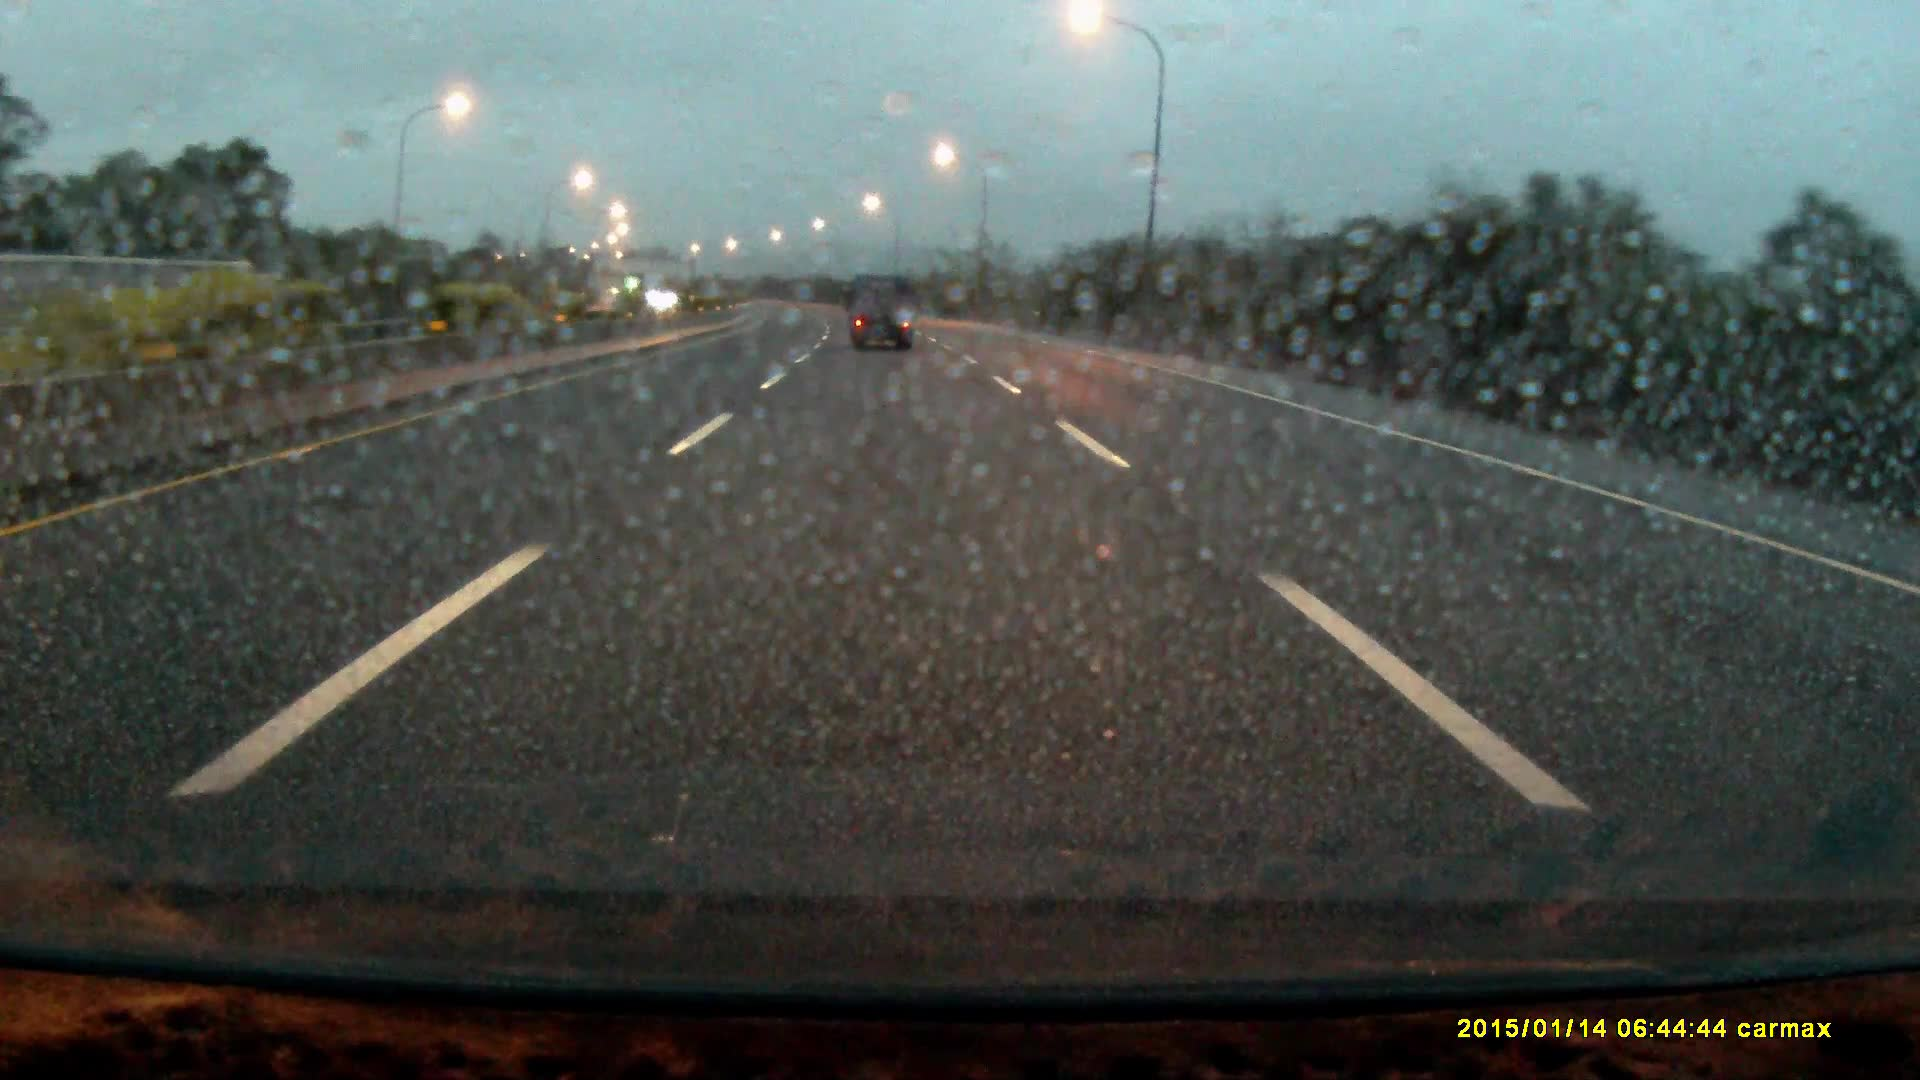vehicle: (848, 272, 916, 353)
